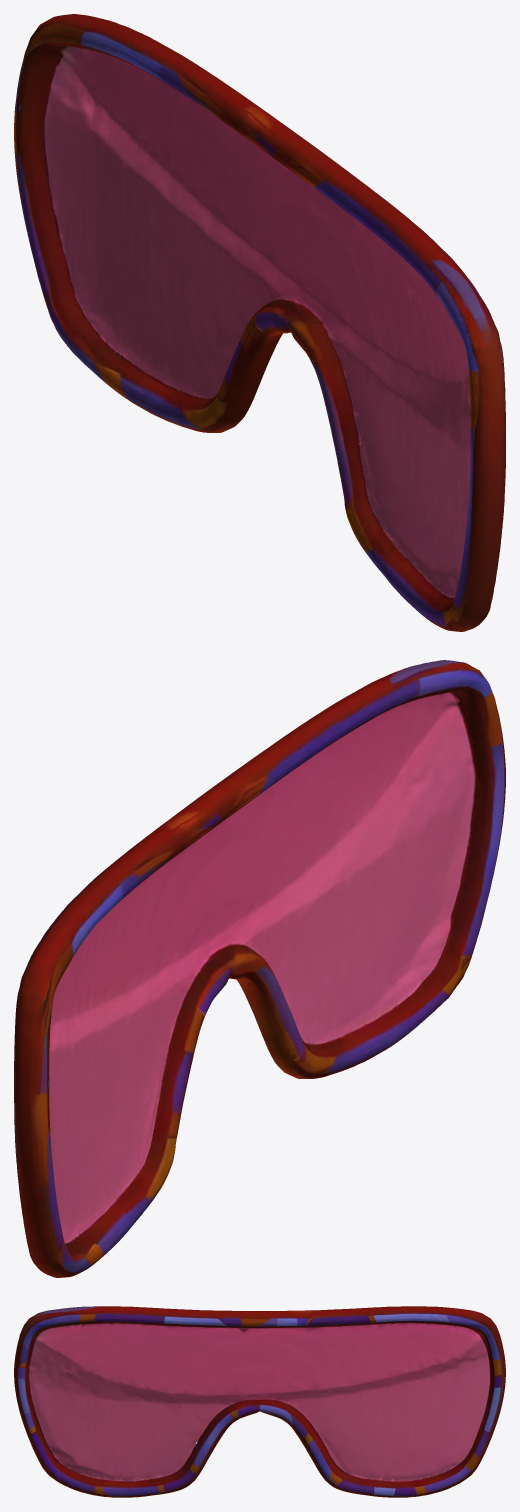
File: 11_009_Mask_Miami-Sunglasses.glb
3 renders of one model, top to bottom at view 1: azimuth 30°, elevation 25°; view 2: azimuth 150°, elevation 25°; view 3: azimuth 270°, elevation 25°, orthographic. The views are drawn at different scales.
Parts seen in each view (by area): view 1: tripo_node_2ba6403f-e3c6-4d25-b342-875e4d66e89b; view 2: tripo_node_2ba6403f-e3c6-4d25-b342-875e4d66e89b; view 3: tripo_node_2ba6403f-e3c6-4d25-b342-875e4d66e89b.
Boxes of the visible parts, x1,y1,x2,y2 form: tripo_node_2ba6403f-e3c6-4d25-b342-875e4d66e89b: (14, 14, 505, 631); tripo_node_2ba6403f-e3c6-4d25-b342-875e4d66e89b: (14, 660, 505, 1277); tripo_node_2ba6403f-e3c6-4d25-b342-875e4d66e89b: (14, 1306, 505, 1497).
Size of the model in its own units: 0.0923 by 0.4263 by 0.9999.
1 material, 1 textured.
